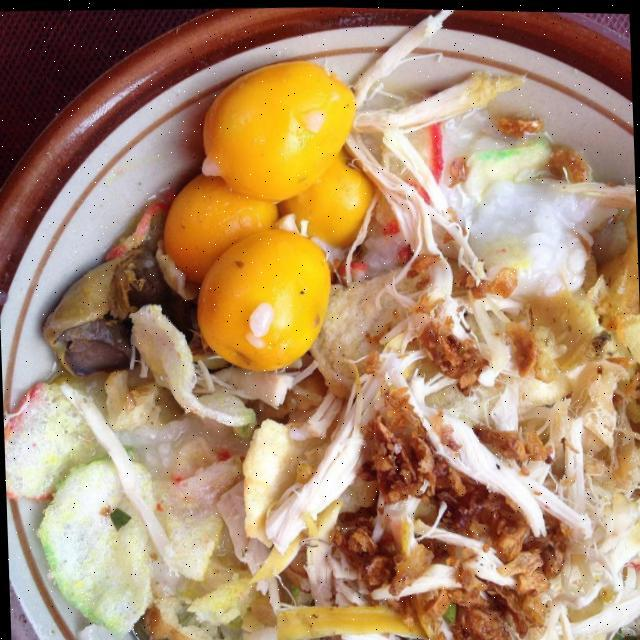bubur ayam: (0, 39, 640, 640)
mangkuk: (0, 0, 640, 640)
